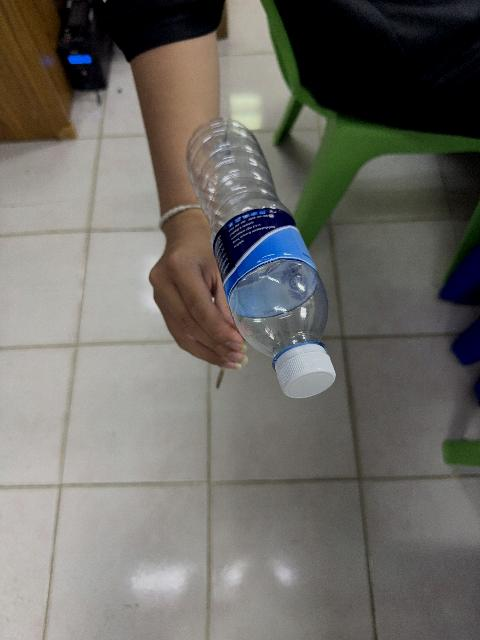bottle: (187, 119, 335, 397)
